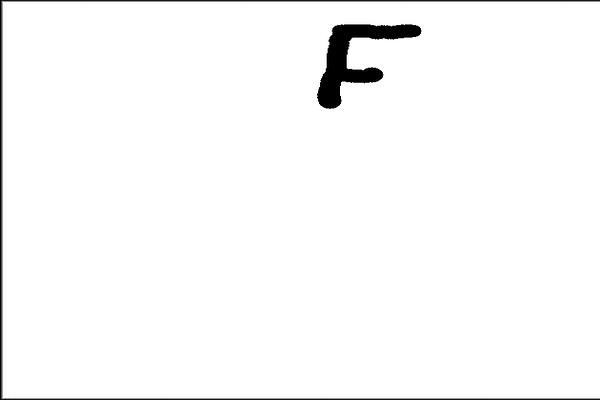F: (312, 19, 424, 111)
